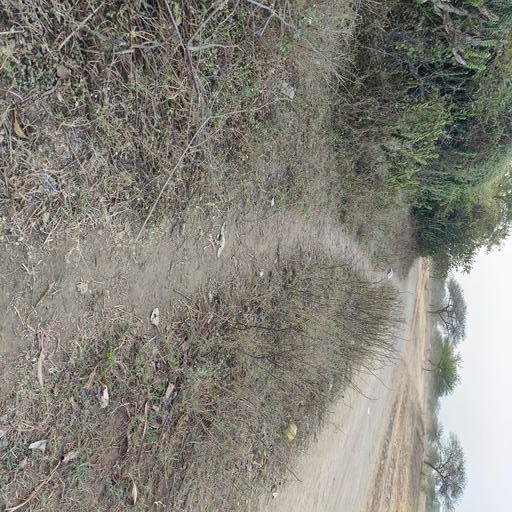vehicle_track: (0, 207, 403, 418), (268, 264, 417, 512)
